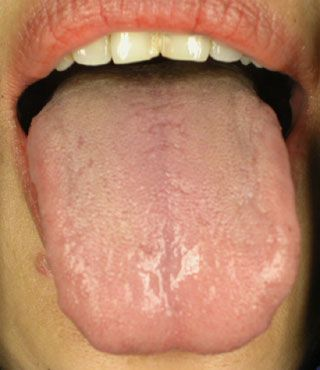baitaishe: (28, 63, 301, 354)
huataishe: (123, 239, 212, 318)
